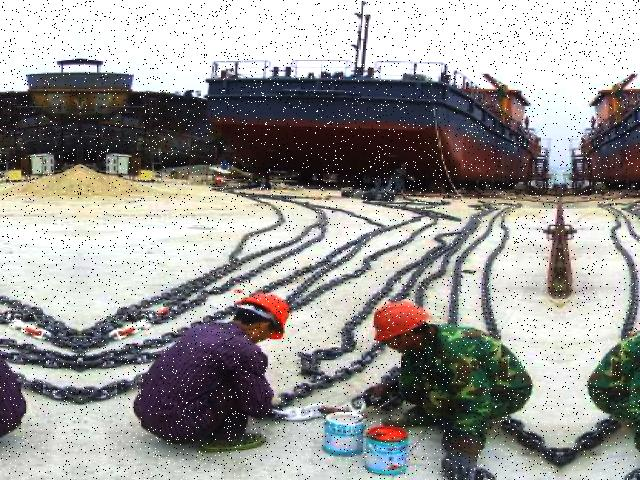Helmet: (368, 299, 432, 350), (230, 290, 291, 343)
